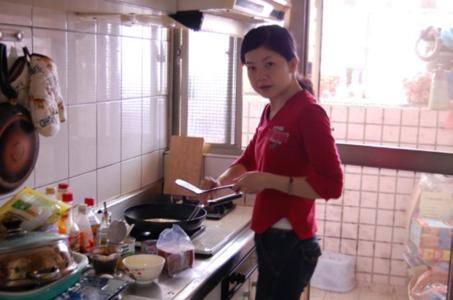person: (194, 25, 348, 300)
